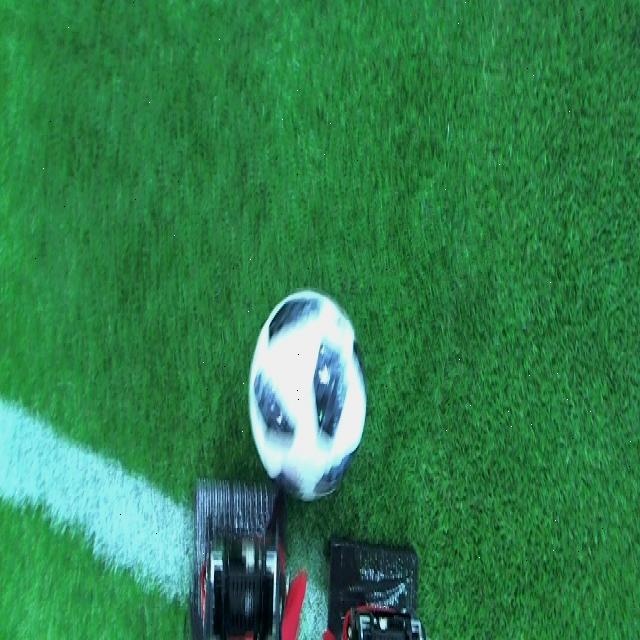ball: (247, 290, 370, 503)
